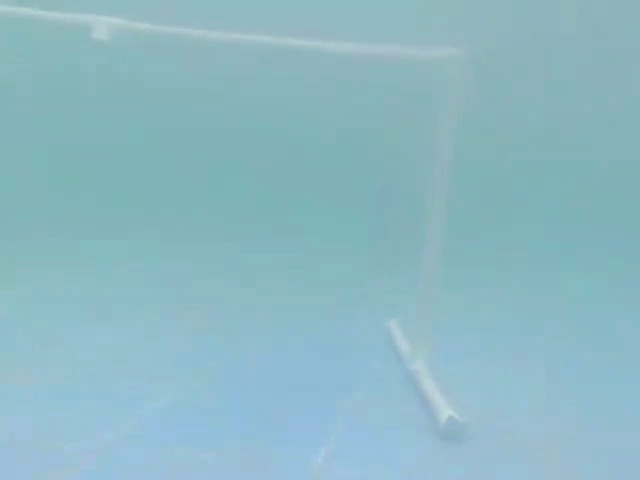gate: (7, 1, 489, 451)
